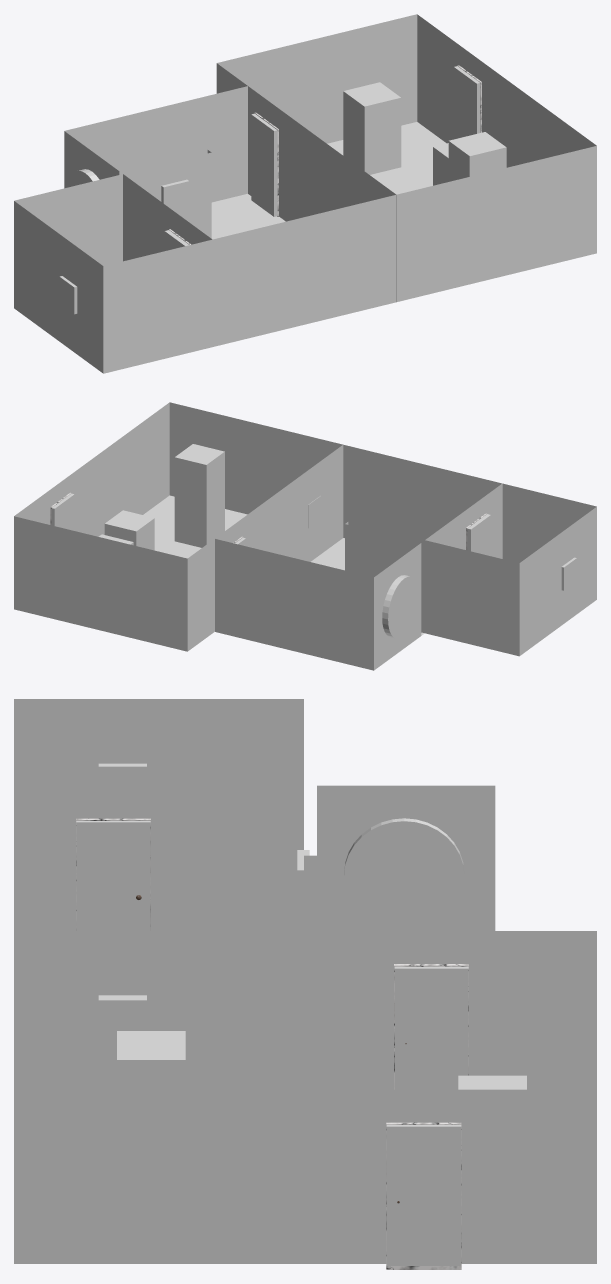
The model's file is NextRooms.fbx.
The picture shows the model from 3 angles, top to bottom: view 1: azimuth 30°, elevation 25°; view 2: azimuth 150°, elevation 25°; view 3: azimuth 270°, elevation 25°; orthographic projection. The views are drawn at different scales.
Visible parts, largest first — view 1: Cube.001, Cube.002, Cube, Куб.006, Куб.003, Куб.004, Куб.012, Куб.007, Куб.005, Куб.010; view 2: Cube.001, Cube.002, Cube, Куб.004, Цилиндр, Куб.005, Куб.011, Куб.012, Куб.010; view 3: Cube.001, Cube.002, Cube, Куб.012, Цилиндр, Куб.003, Куб.011, Куб.004, Куб.009, Куб.010, Куб.006, BaseB.006.
Part boxes in pixels (x1,y1,x2,y2): Cube.001: (216,14,596,302); Cube.002: (64,86,396,346); Cube: (14,174,212,373); Куб.006: (343,82,401,174); Куб.003: (251,113,277,216); Куб.004: (448,132,506,181); Куб.012: (454,66,480,139); Куб.007: (161,179,189,211); Куб.005: (433,143,448,185); Куб.010: (59,276,77,314); Cube.001: (14,402,342,651); Cube.002: (215,444,501,670); Cube: (425,483,596,656); Куб.004: (174,444,224,547); Цилиндр: (382,575,419,638); Куб.005: (104,510,154,550); Куб.011: (467,514,490,556); Куб.012: (51,493,74,530); Куб.010: (561,557,576,590); Cube.001: (14,931,596,1263); Cube.002: (14,785,495,930); Cube: (14,699,303,785); Куб.012: (386,1125,461,1265); Цилиндр: (344,818,464,929); Куб.003: (394,966,468,1089); Куб.011: (76,821,150,930); Куб.004: (117,1031,185,1089); Куб.009: (98,995,146,1043); Куб.010: (98,763,146,785); Куб.006: (458,1075,526,1089); BaseB.006: (386,1122,461,1269).
Size of the model in its own units: 1333 by 280 by 829.
